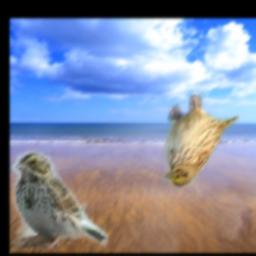Sparrow: (12, 150, 109, 250), (161, 95, 240, 190)
